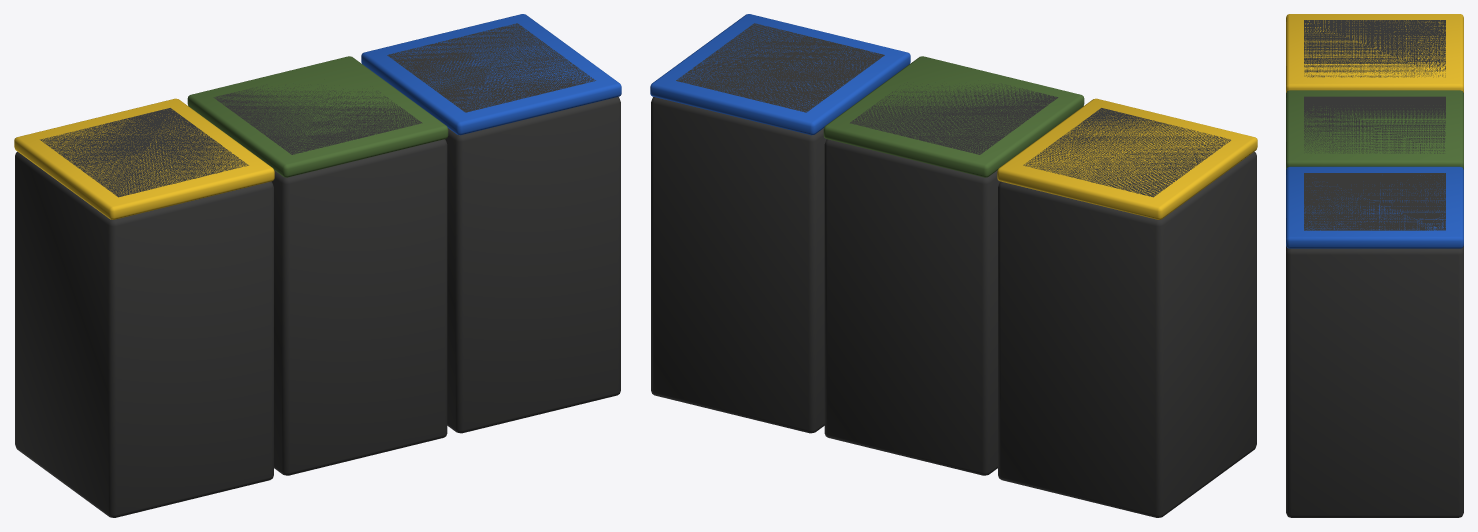
File: utility.multi-stream-station.glb
The picture shows the model from 3 angles, left to right: view 1: azimuth 30°, elevation 25°; view 2: azimuth 150°, elevation 25°; view 3: azimuth 270°, elevation 25°; orthographic projection. The views are drawn at different scales.
Parts seen in each view (by area): view 1: utility.multi-stream-station.001; view 2: utility.multi-stream-station.001; view 3: utility.multi-stream-station.001.
Part boxes in pixels (x1=…): utility.multi-stream-station.001: x1=14, y1=14, x2=621, y2=517; utility.multi-stream-station.001: x1=650, y1=14, x2=1257, y2=517; utility.multi-stream-station.001: x1=1286, y1=14, x2=1463, y2=517.
Bounding box in the file's own units: 1.2 × 0.7 × 0.4.
